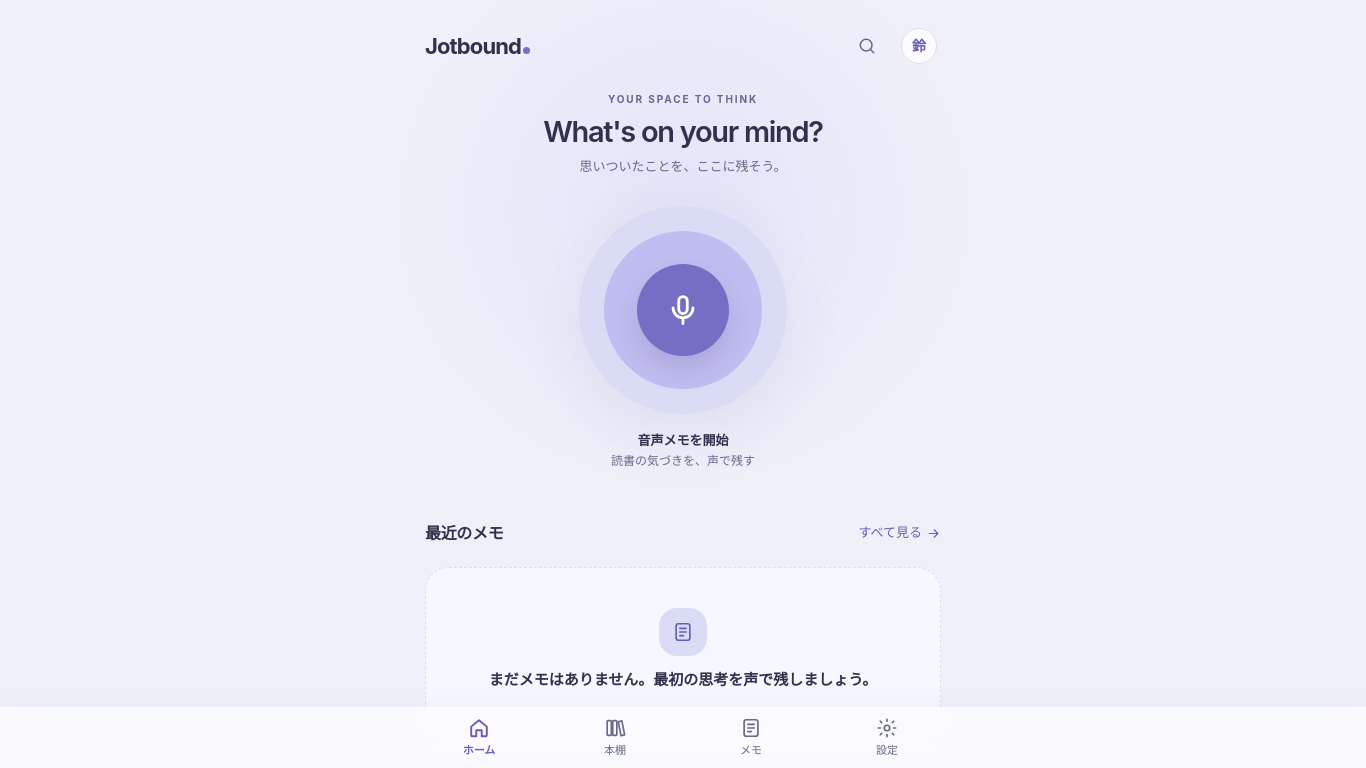
Test: ホーム › 録音ボタンで録音画面へ遷移する
Click the button named "音声メモを開始": (683, 310) [637,264,729,356]
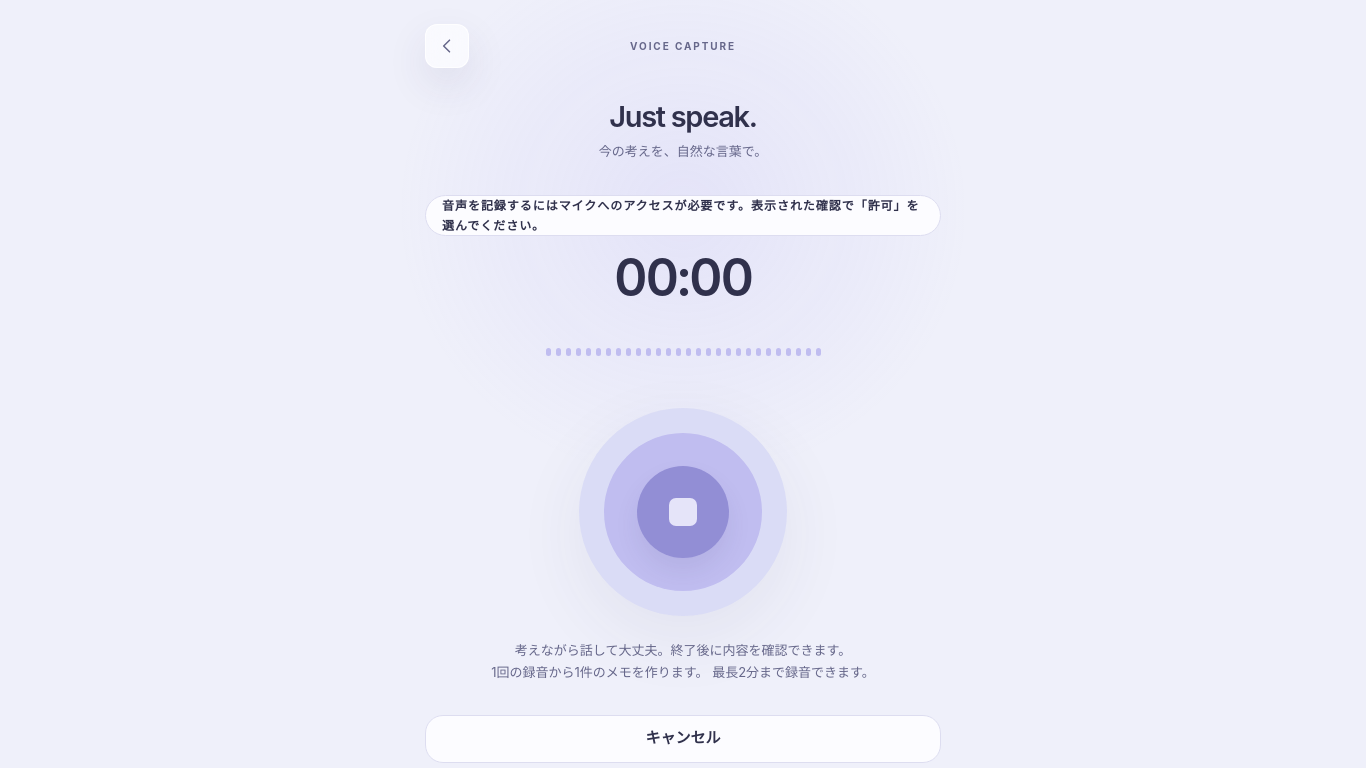
expect the navigation bar "メインメニュー" is gone: met
